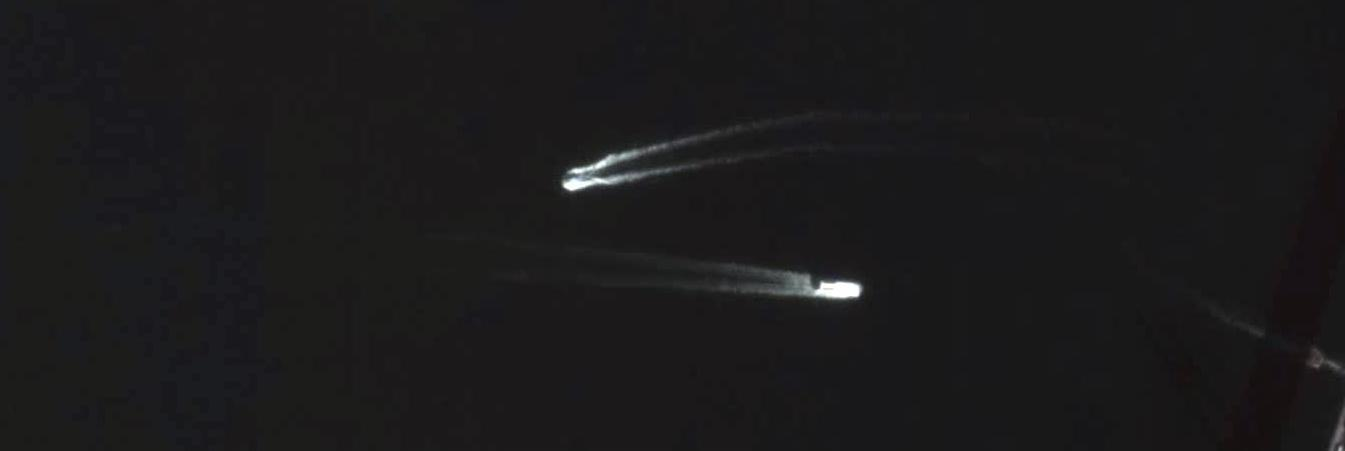person: (816, 280, 862, 298), (562, 171, 585, 183)
